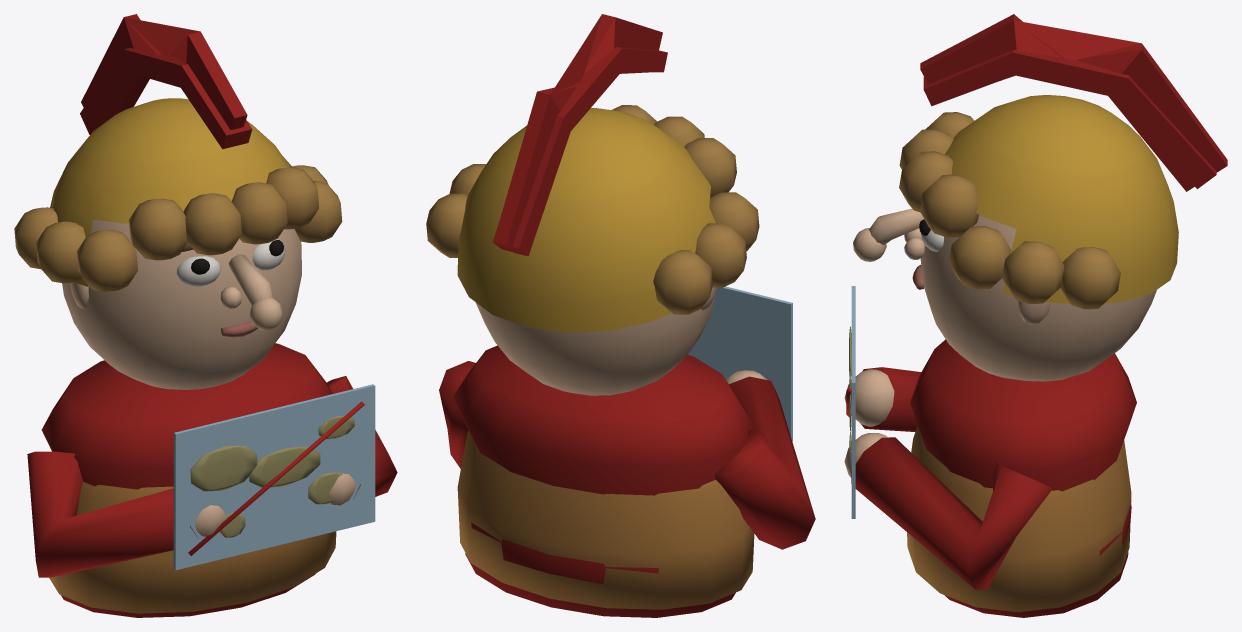
3 views of the same model, side by side, from view 1: azimuth 30°, elevation 25°; view 2: azimuth 150°, elevation 25°; view 3: azimuth 270°, elevation 25° (orthographic).
Visible parts, largest first — view 1: fig_body, fig_head; view 2: fig_body, fig_head; view 3: fig_head, fig_body.
Boxes of the visible parts, x1=… form: fig_body: x1=27, y1=343, x2=397, y2=617; fig_head: x1=14, y1=14, x2=342, y2=389; fig_body: x1=439, y1=286, x2=815, y2=617; fig_head: x1=426, y1=14, x2=759, y2=395; fig_head: x1=853, y1=14, x2=1227, y2=381; fig_body: x1=844, y1=286, x2=1136, y2=617.
Size of the model in its own units: 0.8349 by 1.19 by 0.7656.
